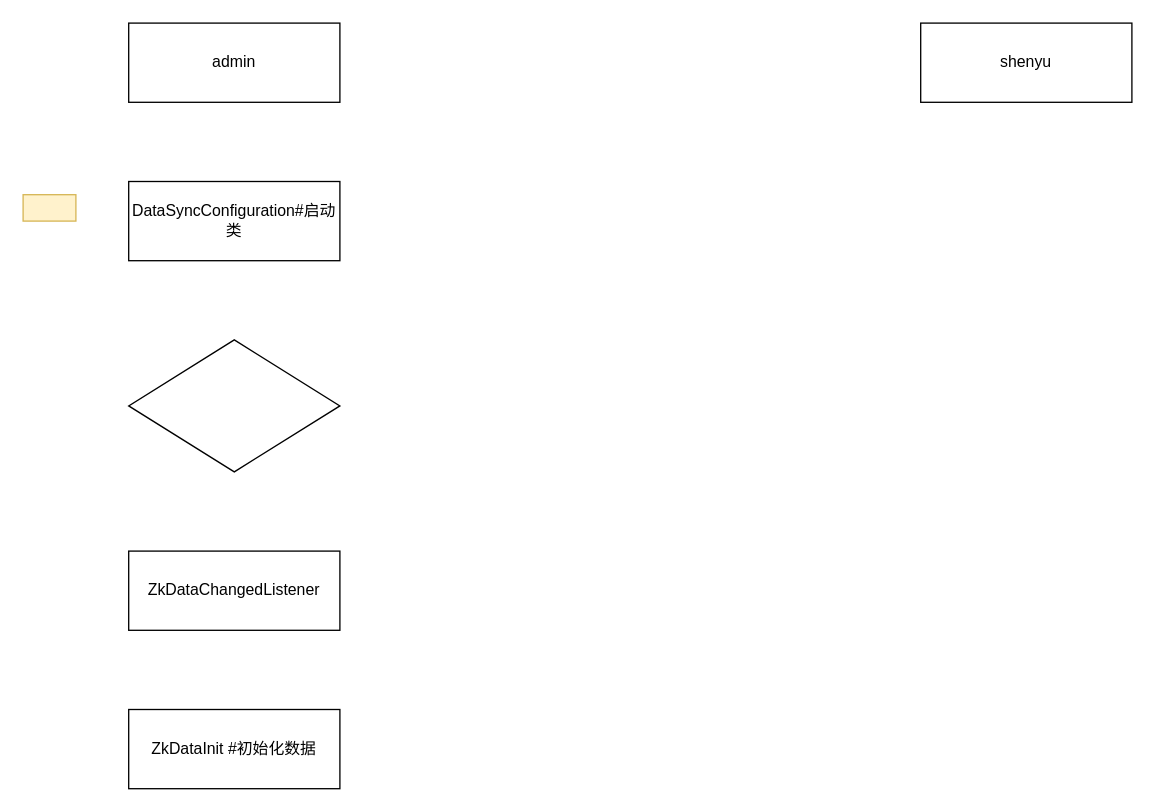
Image size: 1155x812. Some labels were removed from this diagram. The shapes that lost their labels are listed below. From the top down, each one's centre as x and y in pixels, then its label:
At [49,207]: "配置类决定是否启用那个监听器".
At [233,405]: "判断是否启用哪个监听器".
